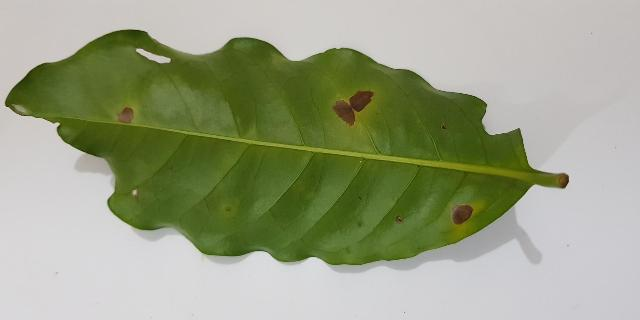phoma: (332, 90, 375, 129), (451, 203, 482, 236), (117, 106, 134, 124)
